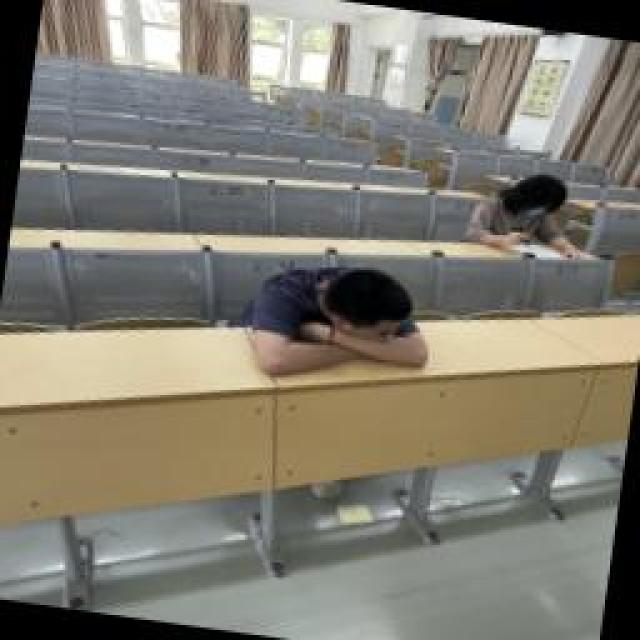sleep: (240, 252, 435, 392)
study: (465, 165, 593, 260)
